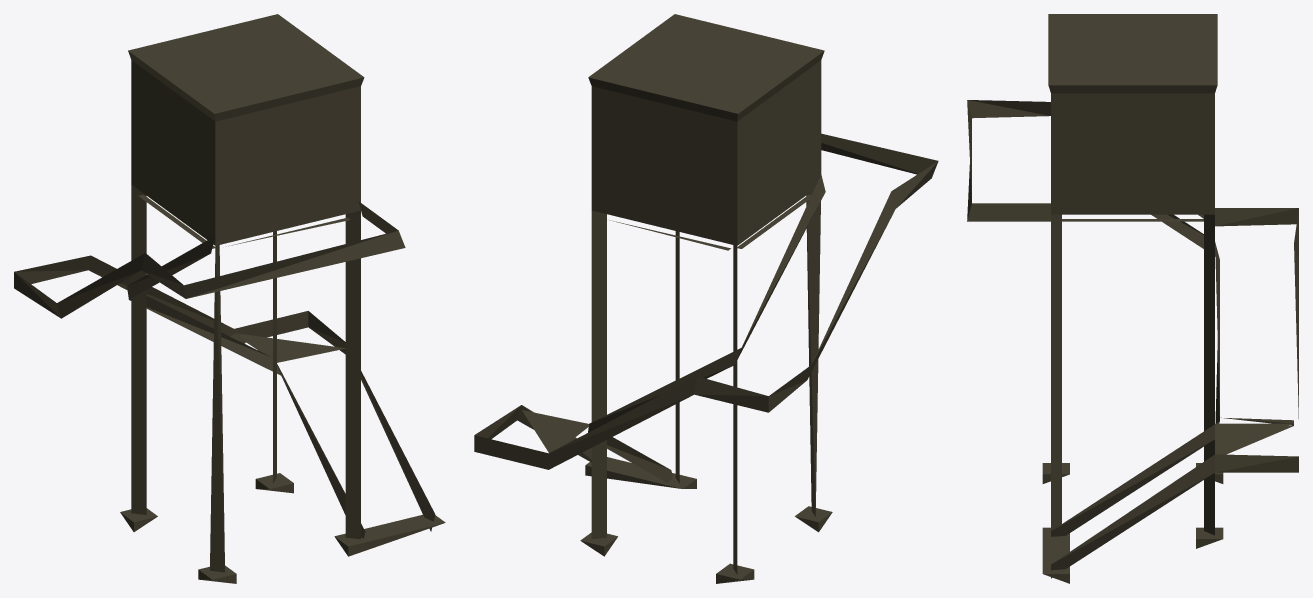
The model's file is bridge-guardtower.lod2.glb.
The picture shows the model from 3 angles, left to right: view 1: azimuth 30°, elevation 25°; view 2: azimuth 150°, elevation 25°; view 3: azimuth 270°, elevation 25°; orthographic projection. The views are drawn at different scales.
Parts seen in each view (by area): view 1: defaultMaterial; view 2: defaultMaterial; view 3: defaultMaterial.
Boxes of the visible parts, <box> form: defaultMaterial: <box>14,14,445,583</box>; defaultMaterial: <box>474,14,938,583</box>; defaultMaterial: <box>967,14,1298,583</box>.
Bounding box in the file's own units: 6.19 × 9.3 × 6.06.
